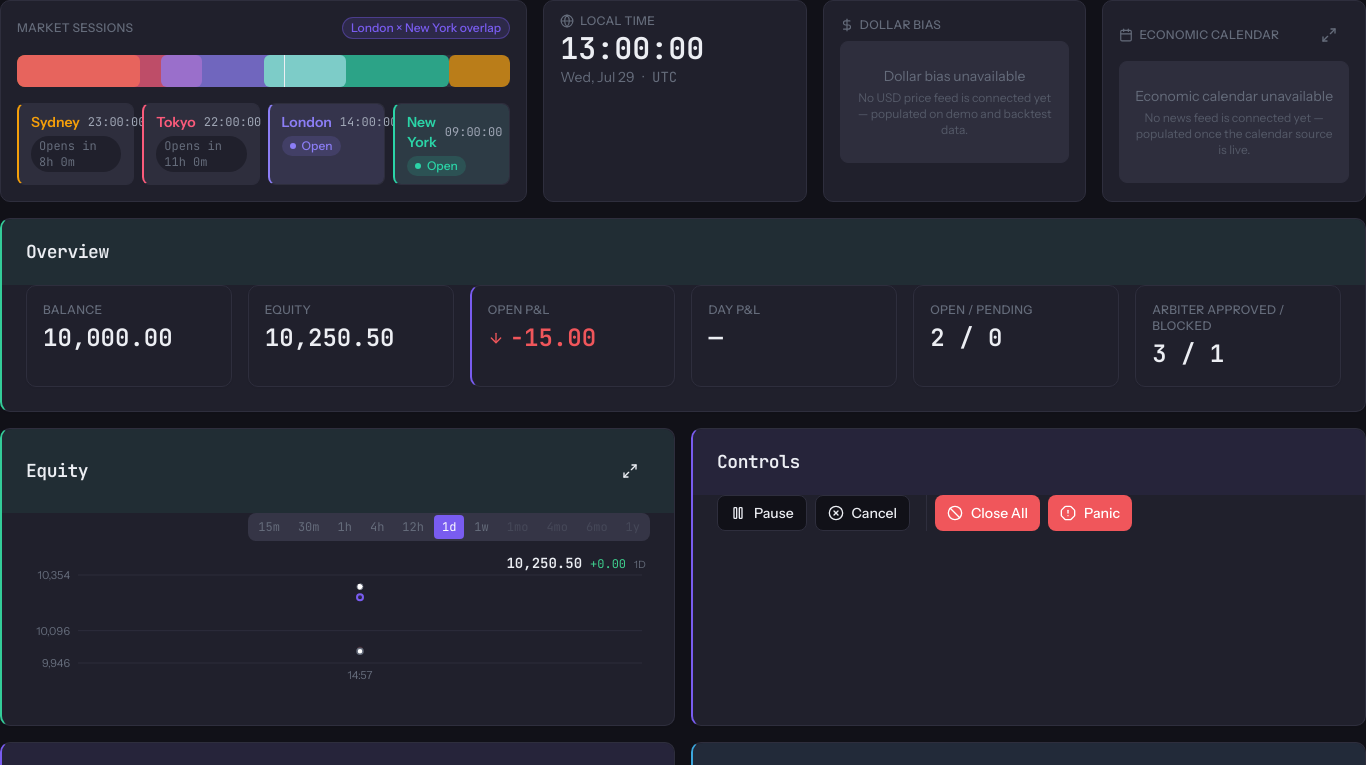
it: equity maximize › closes on Escape and returns focus to the maximize button
Check: the element with test id "range-selector" is shown, box top-left (248, 513), bottom-right (650, 541)
Click the button named "Maximize Equity" at (630, 471), box top-left (610, 453), bottom-right (650, 489)
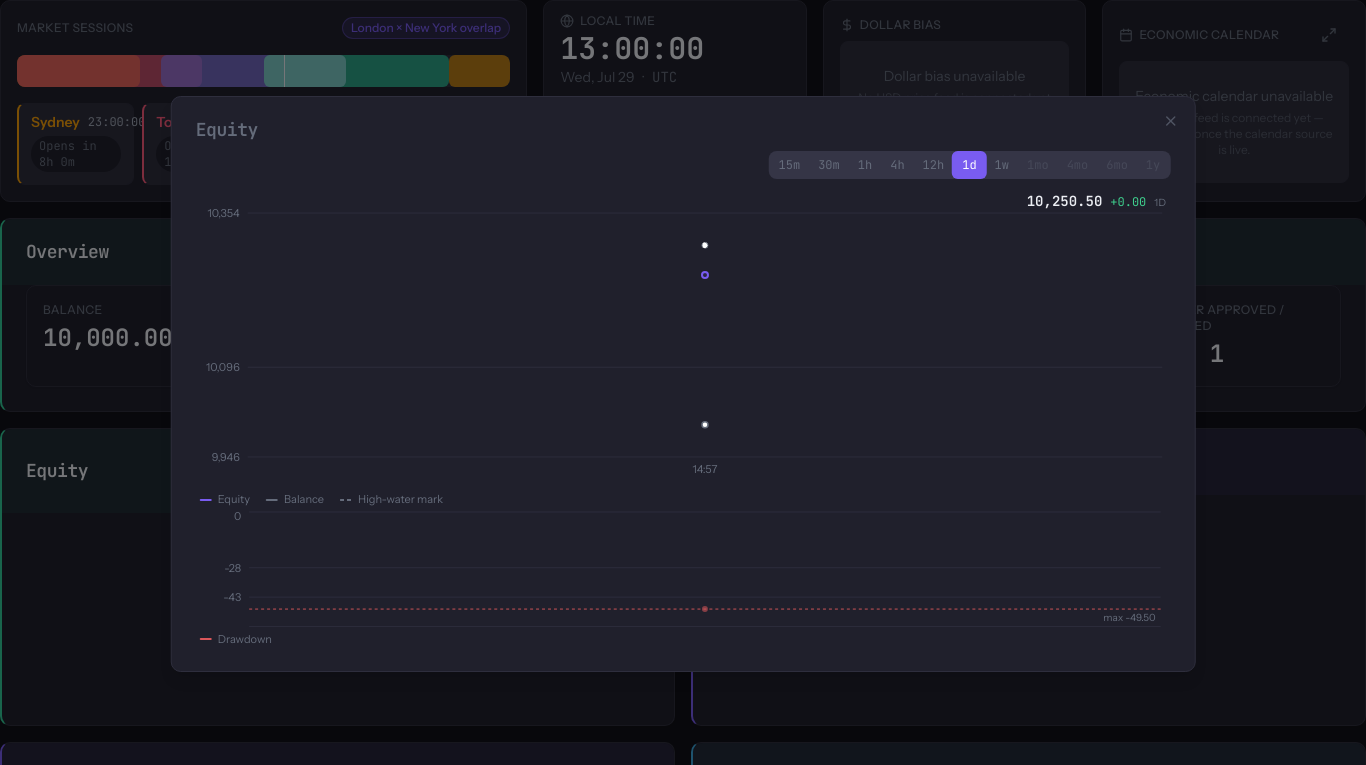
Check: the dialog "Equity" is shown, box top-left (171, 96), bottom-right (1195, 672)
Press Escape
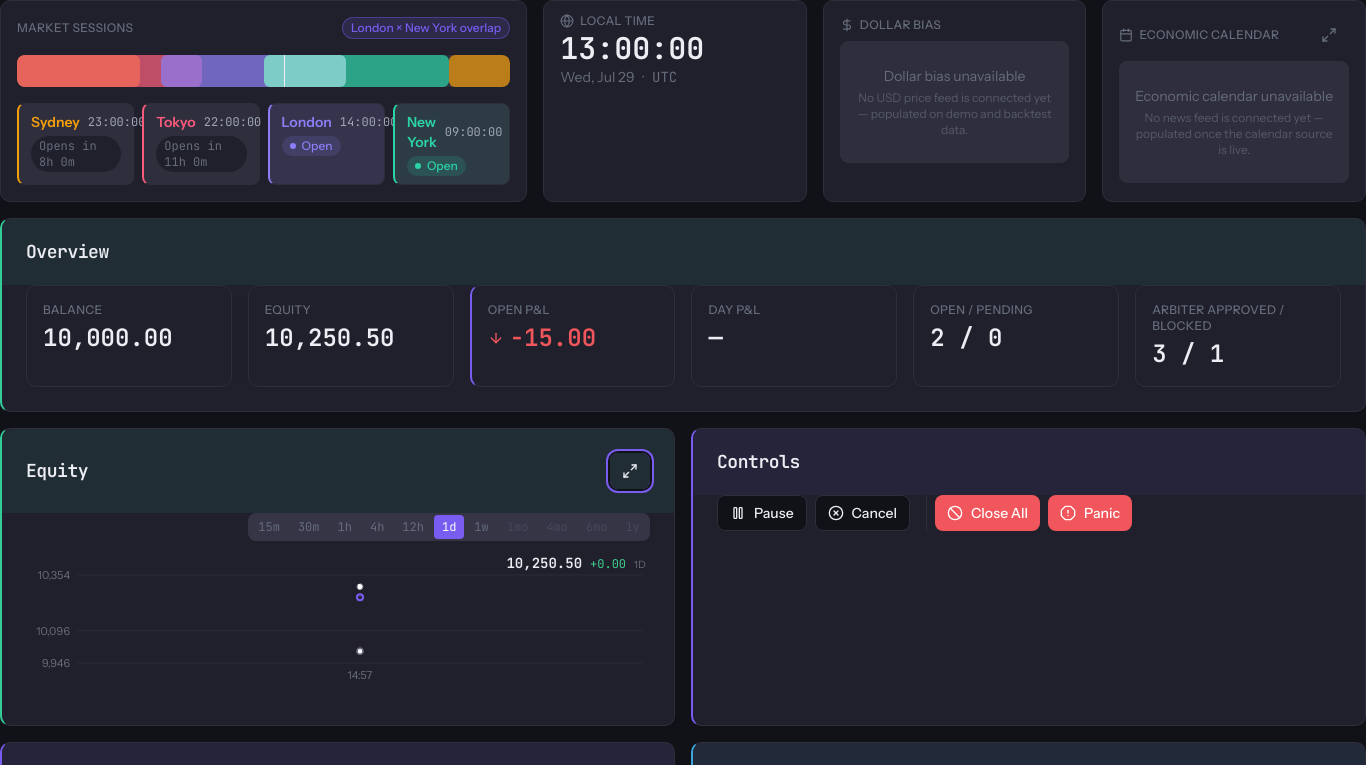
Check: the dialog is gone
